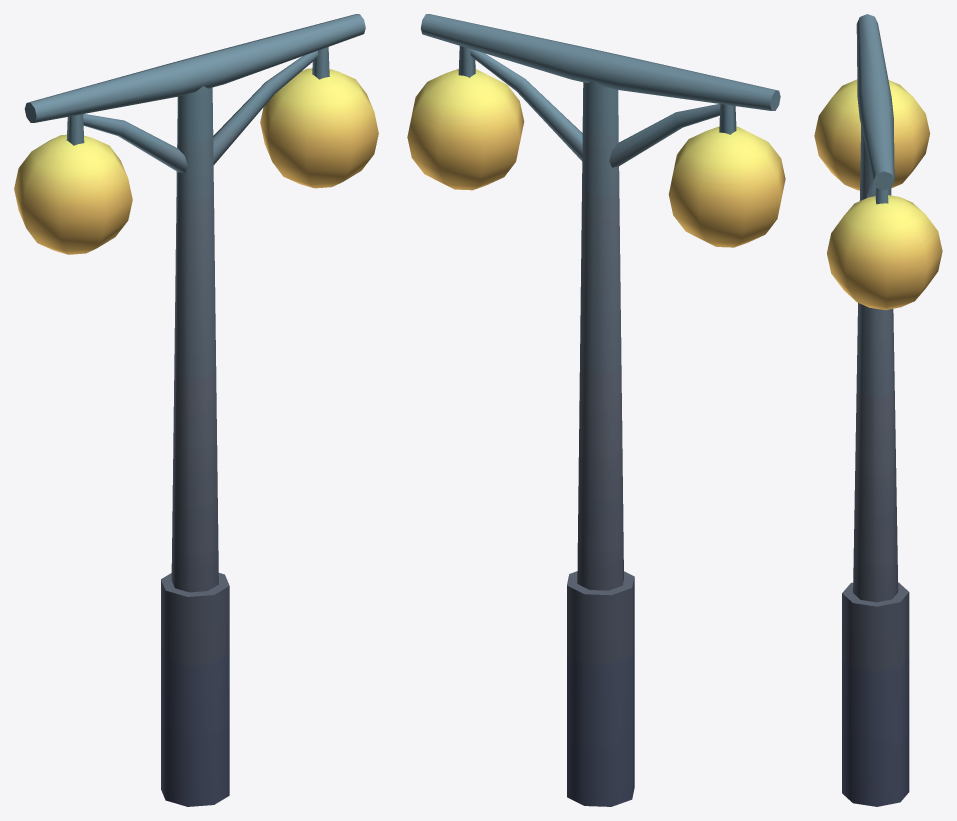
Rendered from Lamp (16).fbx.
3 views of the same model, side by side, from view 1: azimuth 30°, elevation 25°; view 2: azimuth 150°, elevation 25°; view 3: azimuth 270°, elevation 25° (orthographic). The views are drawn at different scales.
Parts seen in each view (by area): view 1: Cylinder_010; view 2: Cylinder_010; view 3: Cylinder_010.
Boxes of the visible parts, left/top/right/bottom form: Cylinder_010: left=14, top=14, right=378, bottom=806; Cylinder_010: left=407, top=14, right=785, bottom=806; Cylinder_010: left=814, top=14, right=942, bottom=806.
Bounding box in the file's own units: 121 × 238 × 39.55.
